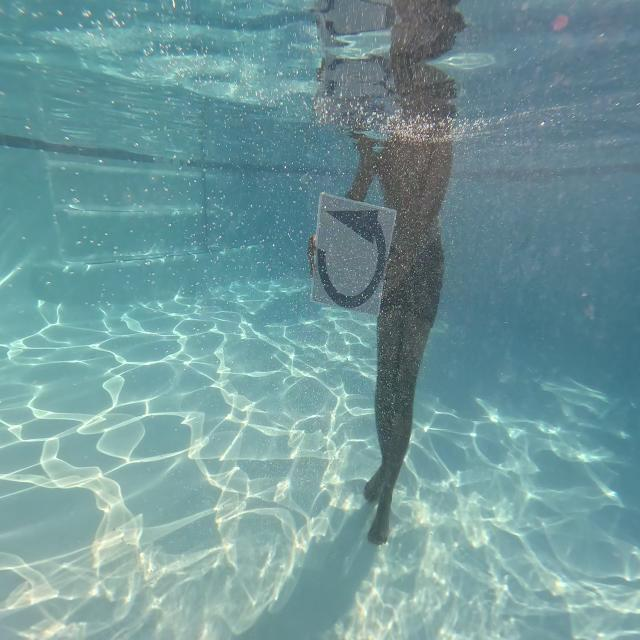blue_side: (311, 188, 398, 323)
